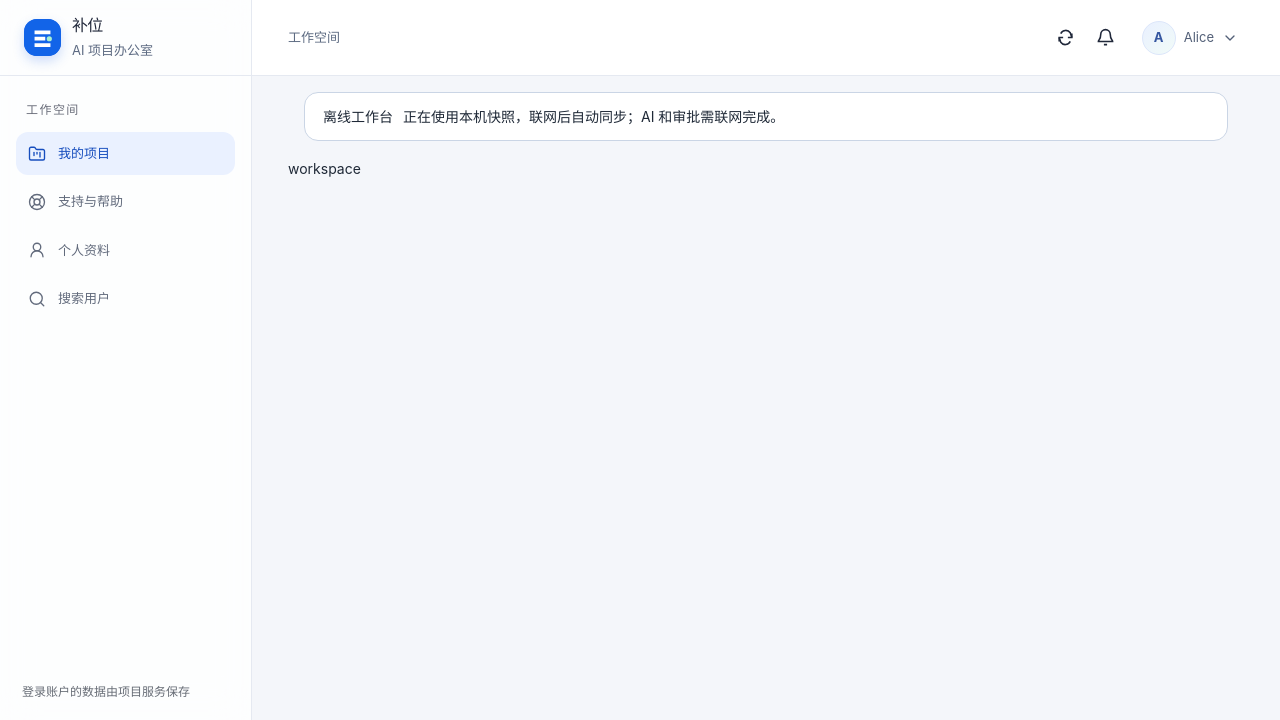
Test: keeps cleanup failure visible and permits retry without claiming success
Click the button with aria-label "个人资料菜单": (1190, 38) [1136,16,1244,60]
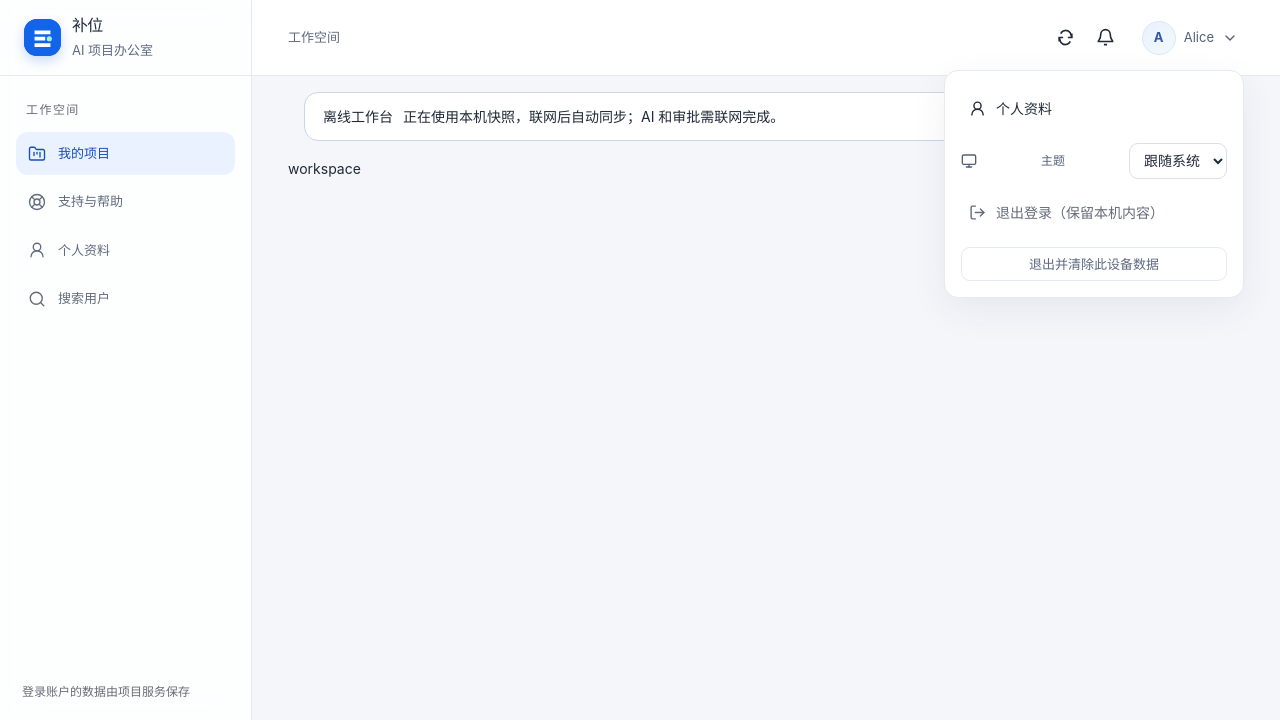
Click the button "退出并清除此设备数据": (1094, 264) [961,246,1227,281]
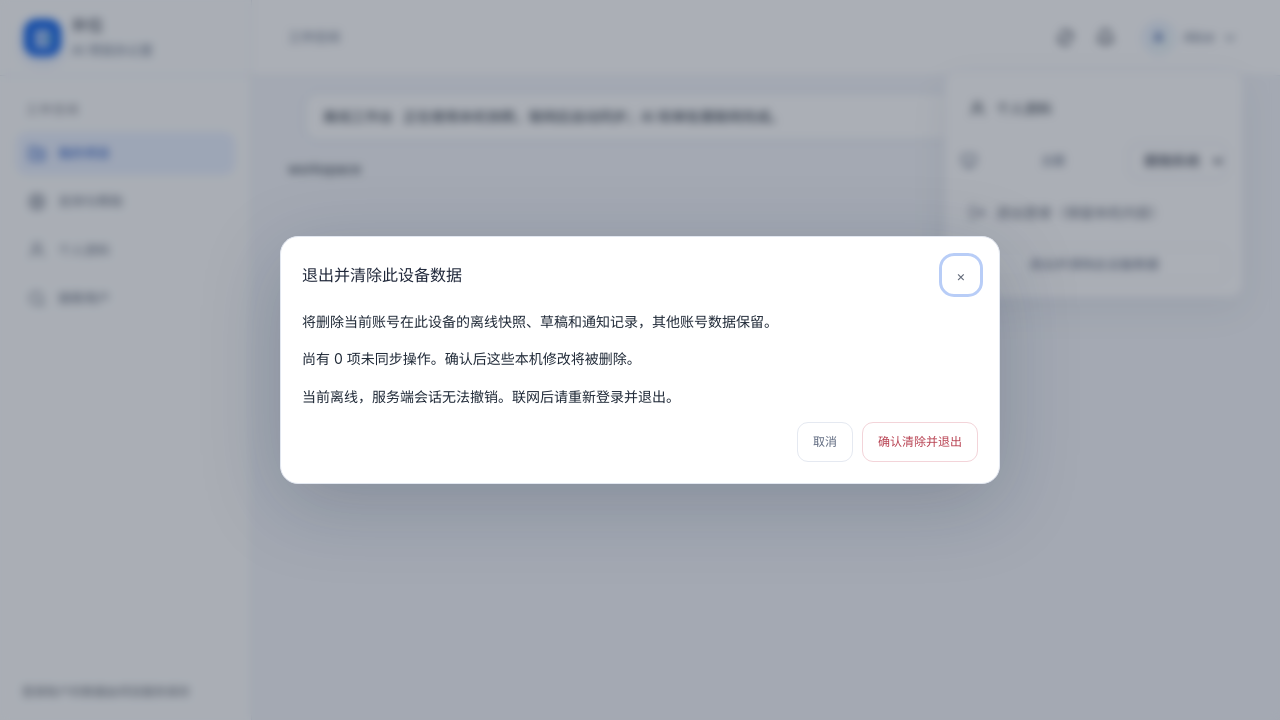
Check: the dialog is shown, box [280,236,1000,484]
Click the button "确认清除并退出": (920, 442) [862,422,978,462]
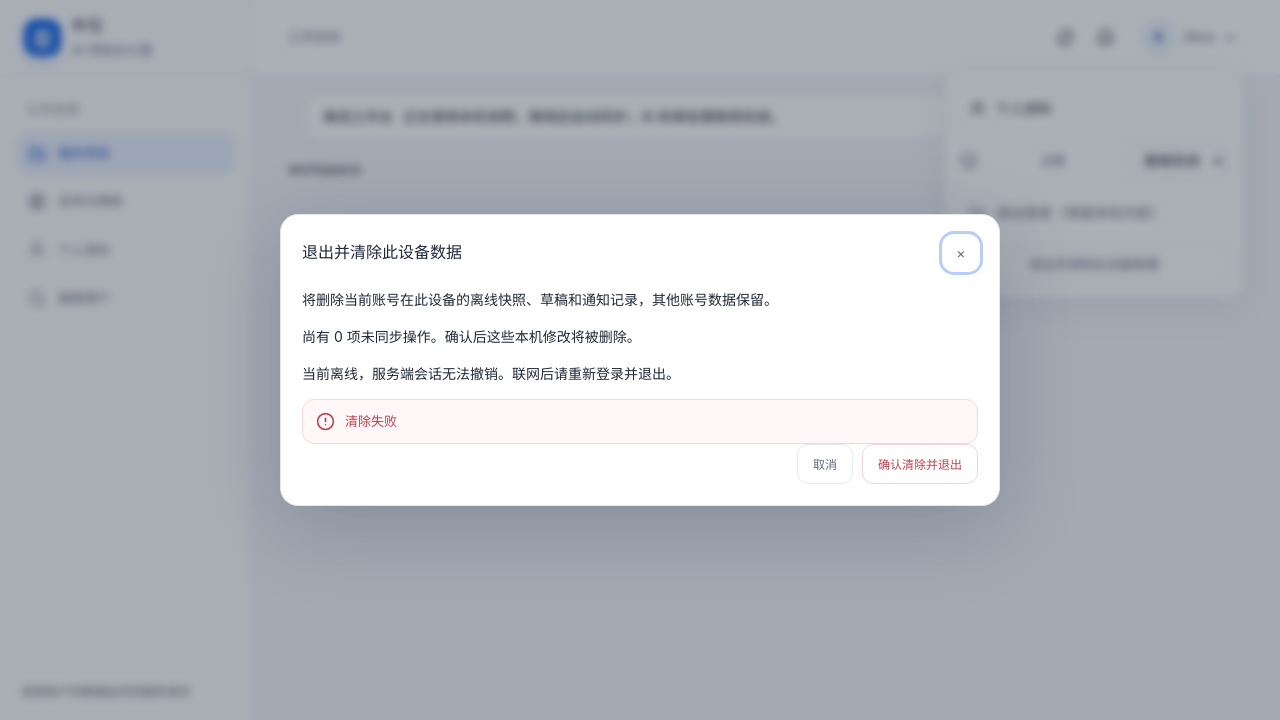
Check: the text "清除失败" is shown, box [345,413,397,429]
